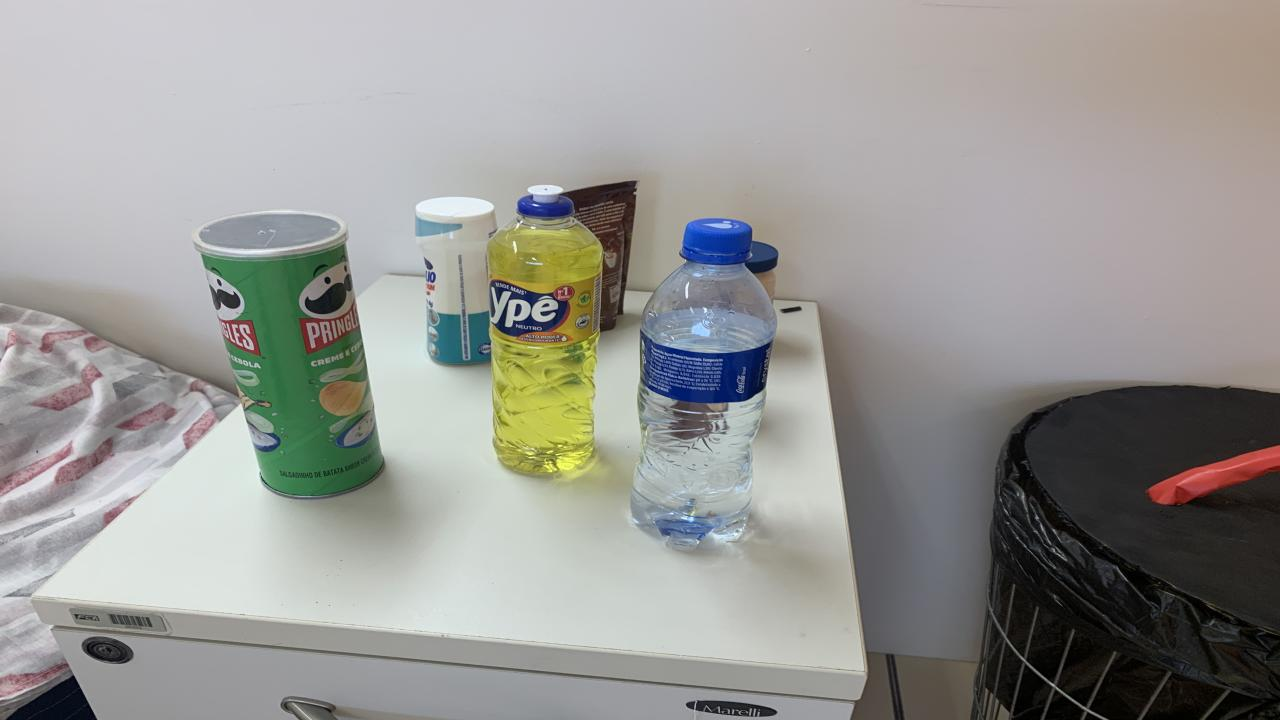Cleaner-Cleanup_Items: (415, 197, 498, 364)
Coffee-Pantry_Items: (565, 180, 638, 330)
Detergent-Cleanup_Items: (488, 186, 602, 472)
Mayonnaise-Pantry_Items: (745, 242, 778, 300)
Pringles-Snacks: (192, 210, 382, 497)
Water_Bottle-Drinks: (630, 218, 778, 548)
